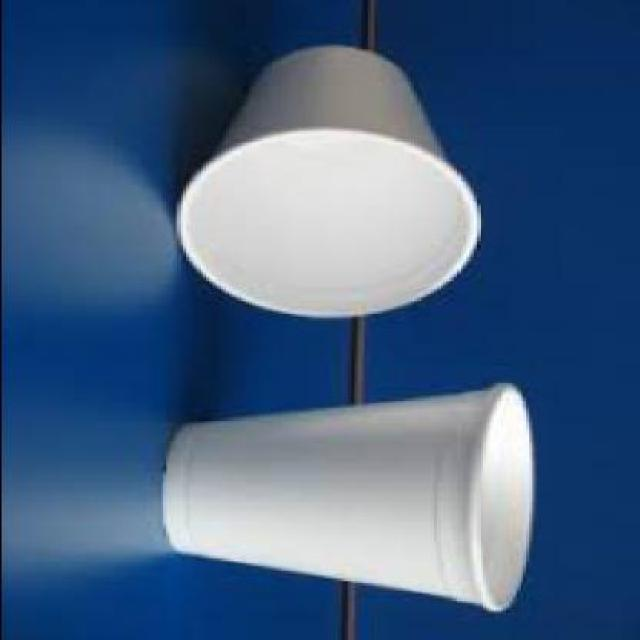PAPER: (162, 386, 538, 616), (174, 49, 486, 326)
